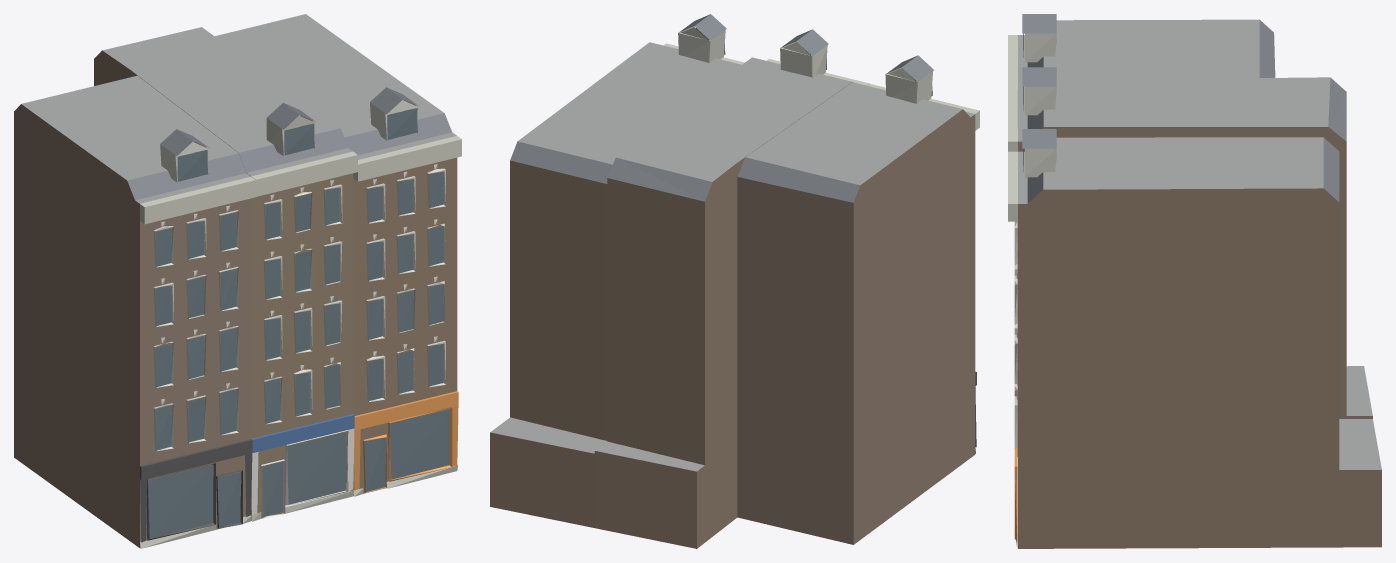
File: chunk-face-kinker-376-380.lod2.glb
3 renders of one model, left to right at view 1: azimuth 30°, elevation 25°; view 2: azimuth 150°, elevation 25°; view 3: azimuth 270°, elevation 25°, orthographic. The views are drawn at different scales.
Visible parts, largest first — view 1: lod2; view 2: lod2; view 3: lod2.
Part boxes in pixels (box(x1,y1,x2,y2)): lod2: box(14, 14, 461, 548); lod2: box(490, 14, 979, 548); lod2: box(1008, 14, 1381, 548).
Bounding box in the file's own units: 15.56 × 18.3 × 15.35.
